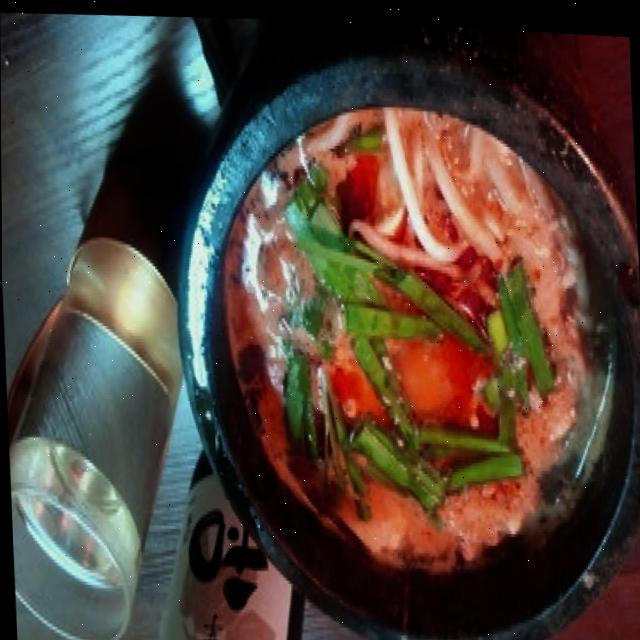汤锅炖物: (171, 21, 640, 640)
